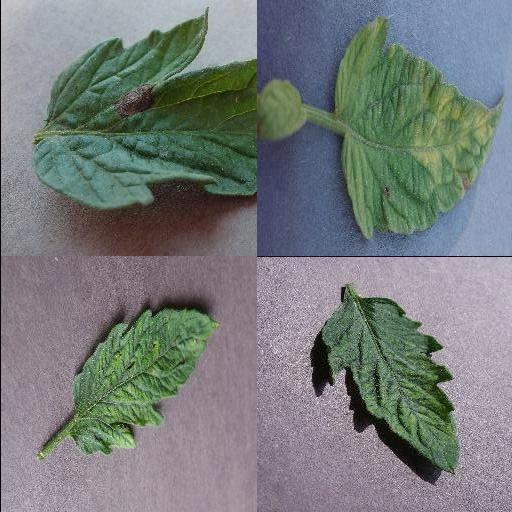Early Blight: (36, 7, 256, 212)
Leaf Mold: (332, 14, 502, 242)
Mosaic Virus: (318, 294, 460, 476), (69, 307, 223, 457)
